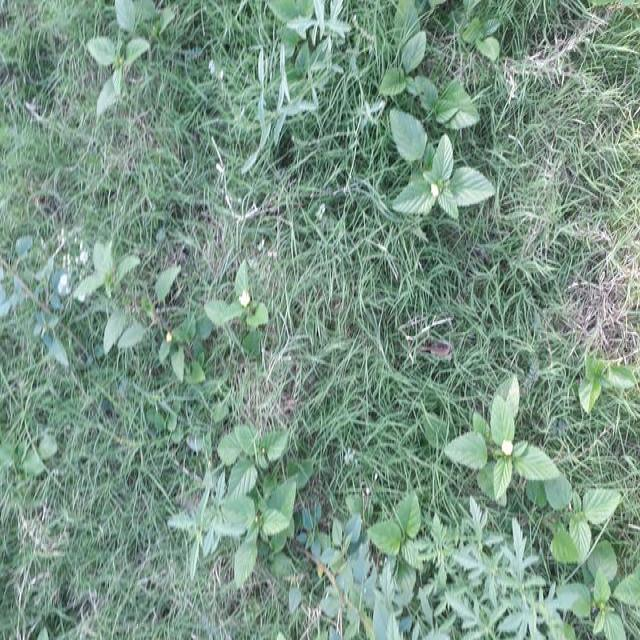weed: (466, 428, 611, 640), (324, 543, 640, 640), (377, 27, 495, 220), (208, 423, 296, 588), (73, 252, 188, 360), (458, 400, 548, 496), (85, 21, 149, 118), (207, 272, 256, 347)
